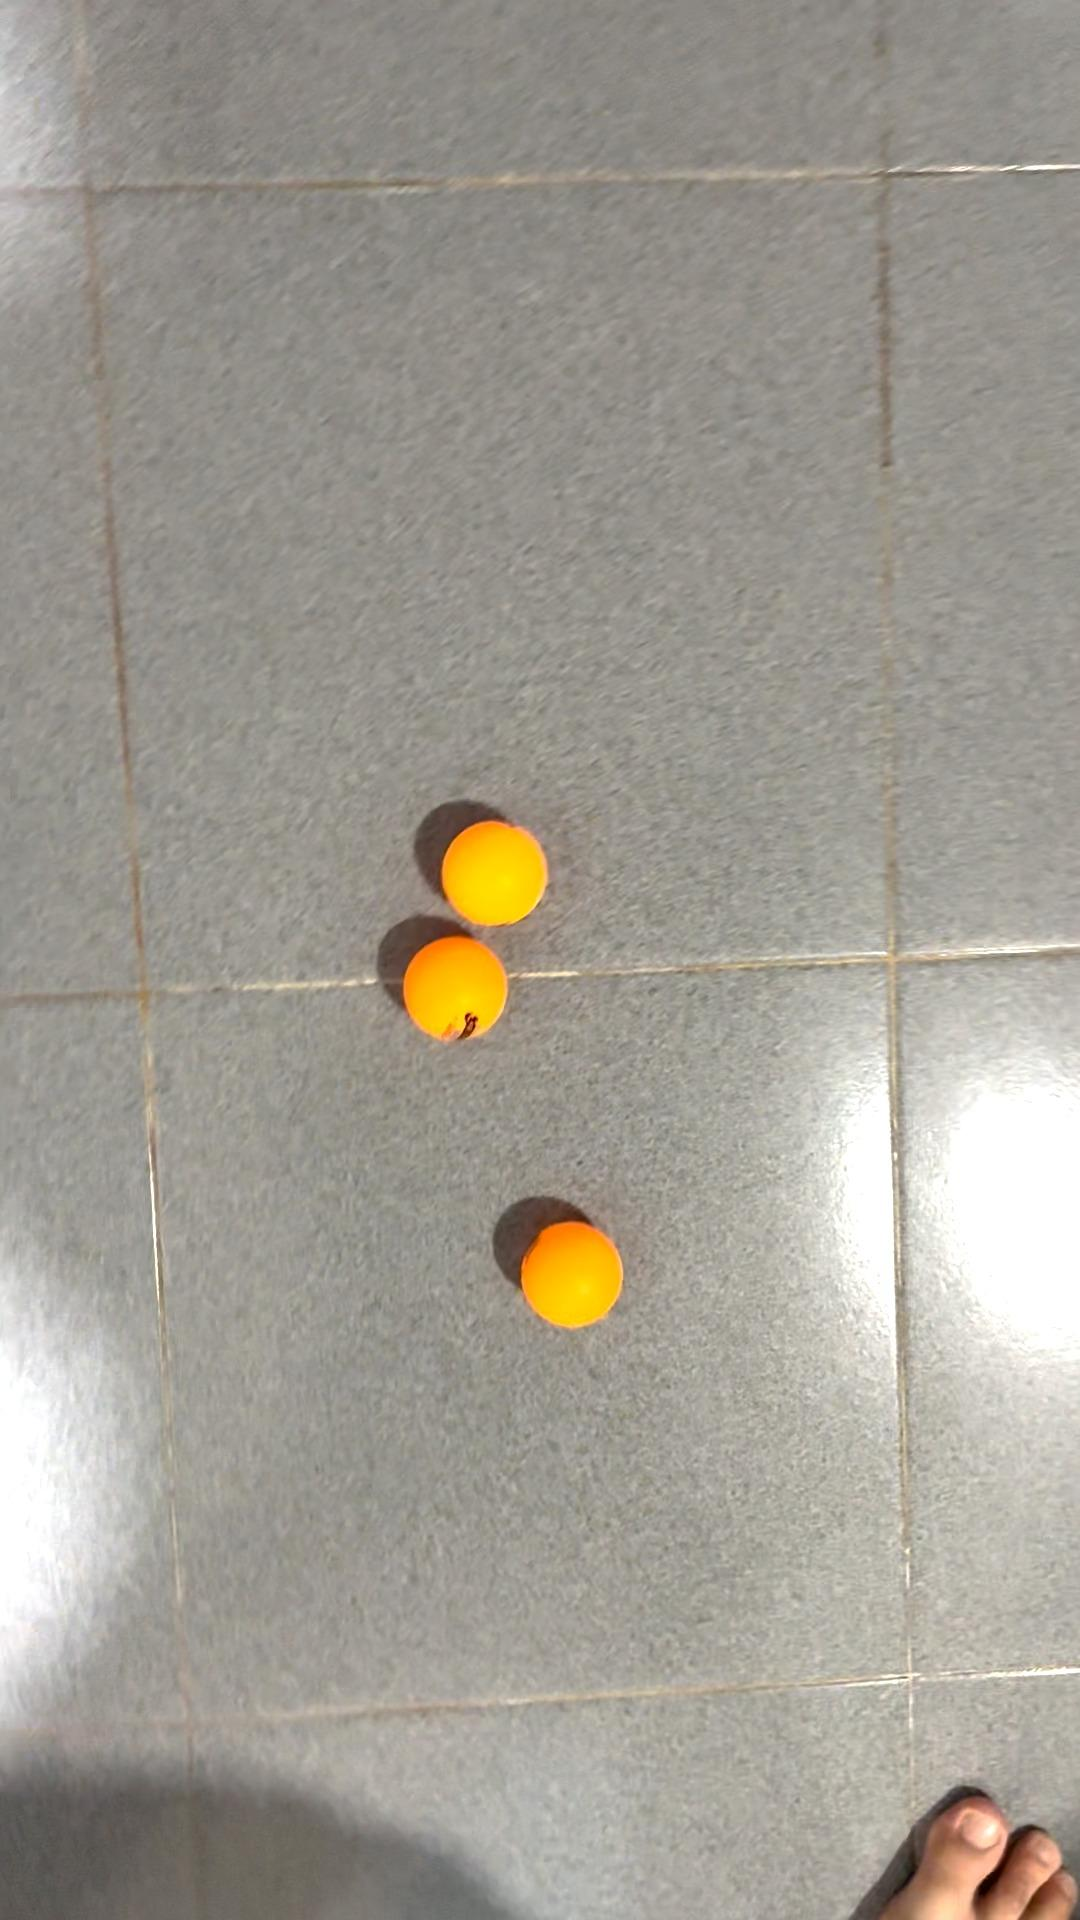oball: (497, 1201, 640, 1344), (434, 808, 559, 938), (388, 942, 526, 1055)
